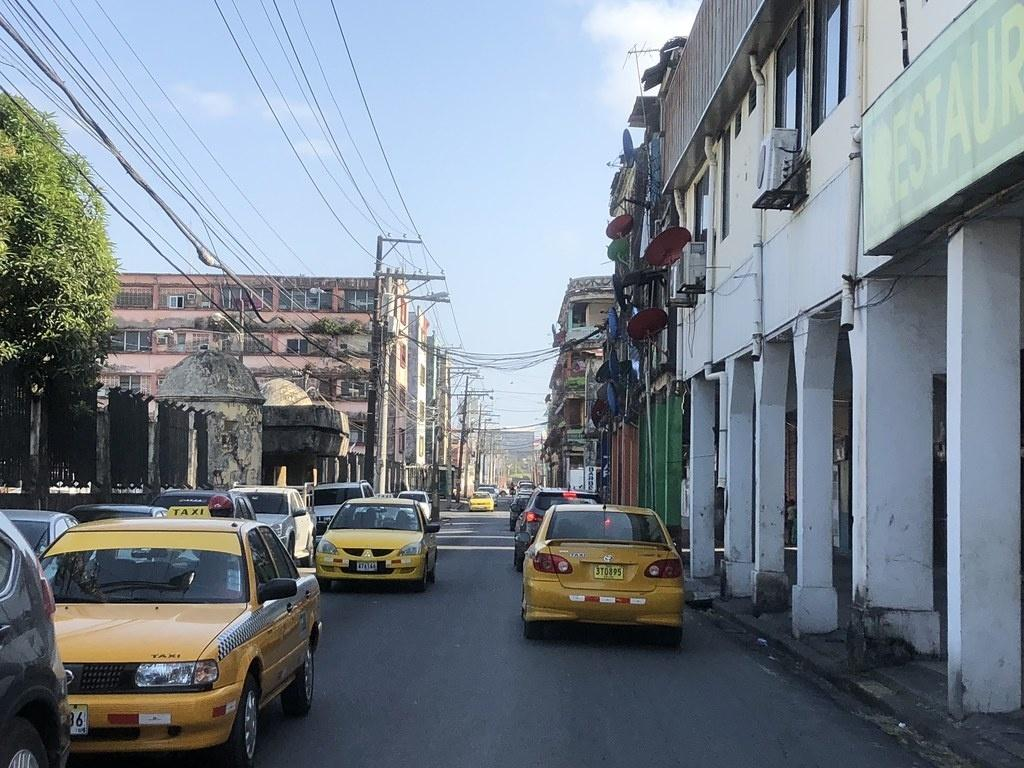license_plate: (594, 564, 624, 580), (356, 561, 377, 572)
